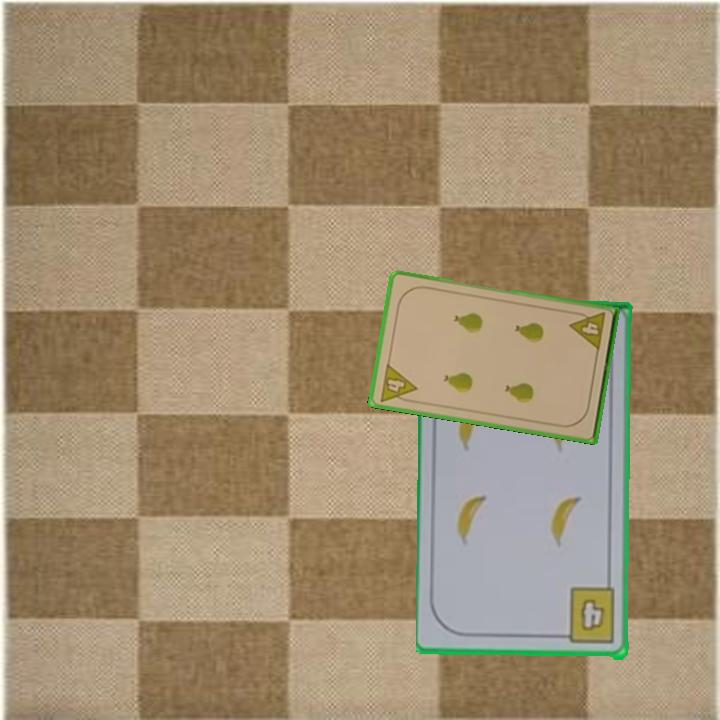4b: (556, 585, 618, 647)
4p: (376, 360, 420, 406), (566, 308, 608, 354)
